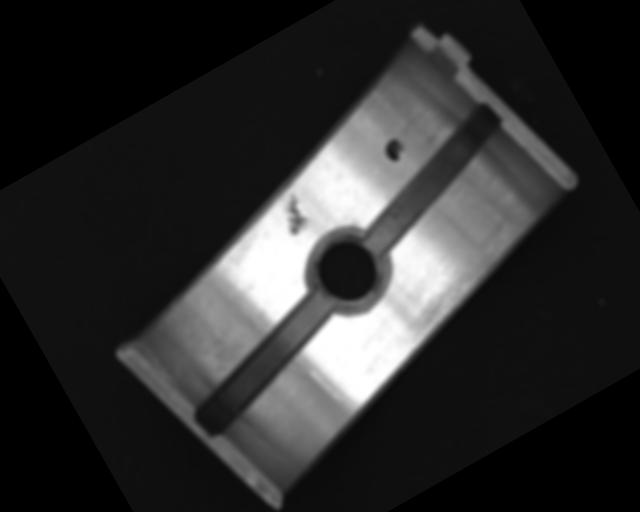blot: (379, 135, 408, 164)
bruise: (272, 191, 314, 238)
gap: (335, 98, 532, 260), (171, 288, 359, 439)
hole: (296, 221, 403, 325)
nick: (311, 358, 364, 423)
scratch: (376, 211, 551, 352)
